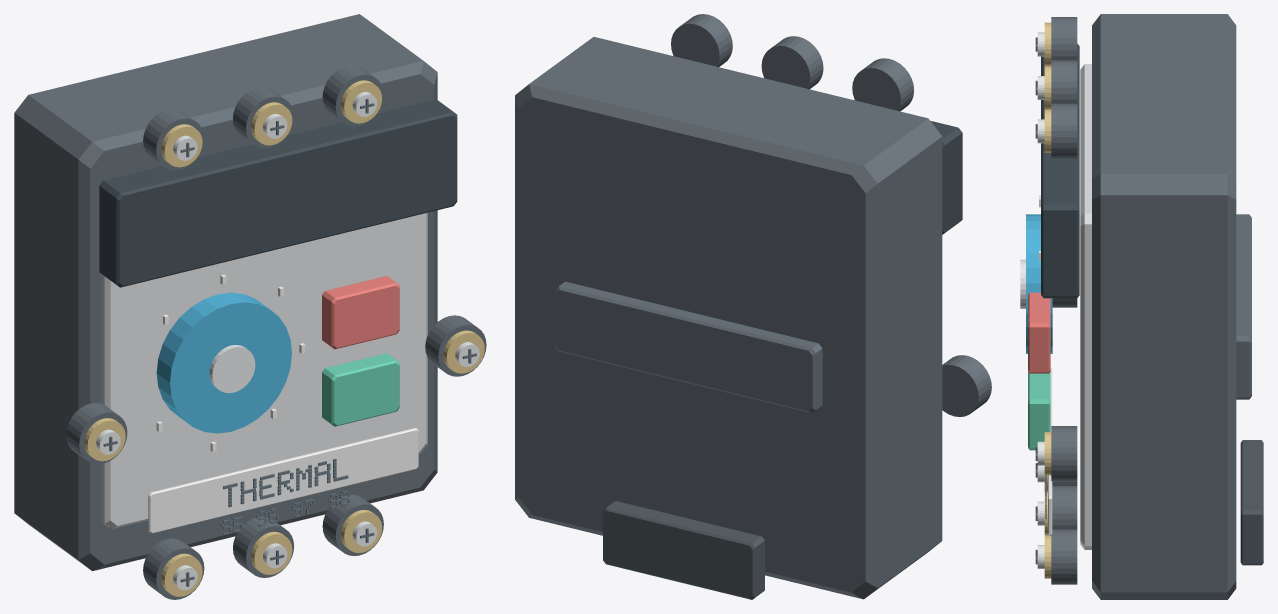
The model's file is thermalRelay.glb.
The picture shows the model from 3 angles, left to right: view 1: azimuth 30°, elevation 25°; view 2: azimuth 150°, elevation 25°; view 3: azimuth 270°, elevation 25°; orthographic projection.
Visible parts, largest first — view 1: thermalRelay-detailed; view 2: thermalRelay-detailed; view 3: thermalRelay-detailed.
Part boxes in pixels (x1,y1,x2,y2): thermalRelay-detailed: [14, 14, 486, 599]; thermalRelay-detailed: [515, 14, 991, 599]; thermalRelay-detailed: [1020, 14, 1263, 599].
Size of the model in its own units: 2.65 by 2.98 by 1.38.
